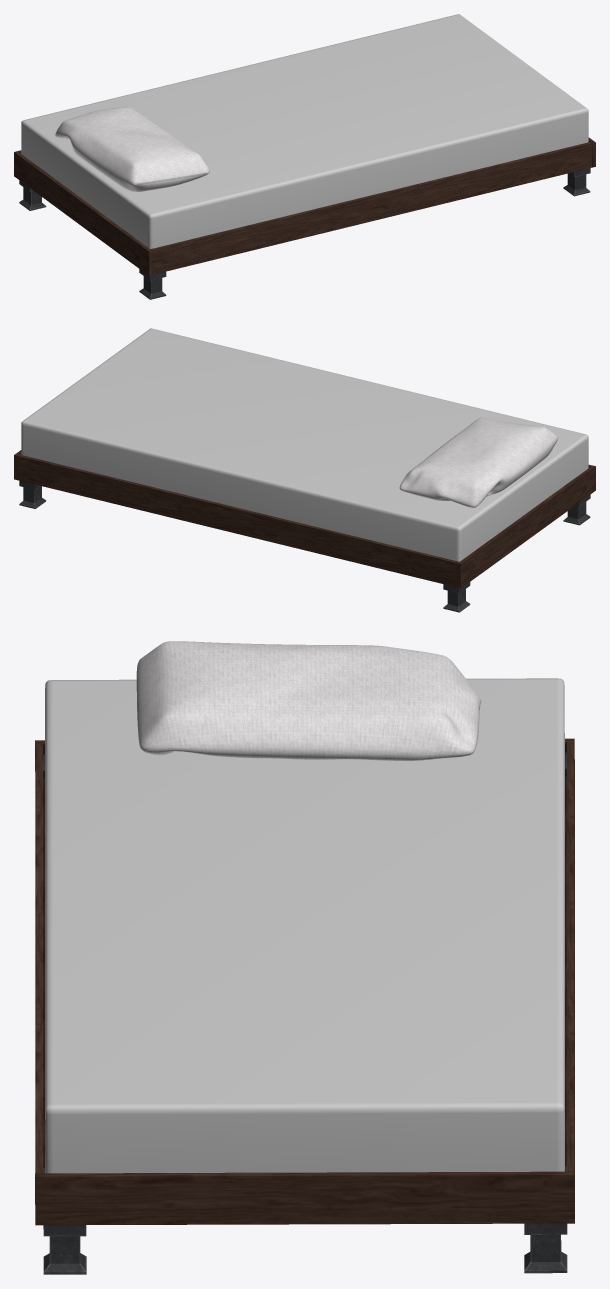
3 renders of one model, top to bottom at view 1: azimuth 30°, elevation 25°; view 2: azimuth 150°, elevation 25°; view 3: azimuth 270°, elevation 25°, orthographic. The views are drawn at different scales.
Parts seen in each view (by area): view 1: Mattress, Bed Frame, Pillow _Pillow _0; view 2: Mattress, Bed Frame, Pillow _Pillow _0; view 3: Mattress, Bed Frame, Pillow _Pillow _0.
Boxes of the visible parts, <box> form: Mattress: <box>21,14,588,249</box>; Bed Frame: <box>14,137,595,299</box>; Pillow _Pillow _0: <box>55,106,209,191</box>; Mattress: <box>21,328,588,561</box>; Bed Frame: <box>14,450,595,612</box>; Pillow _Pillow _0: <box>399,417,558,507</box>; Mattress: <box>45,678,564,1173</box>; Bed Frame: <box>35,738,574,1274</box>; Pillow _Pillow _0: <box>136,641,481,760</box>.
Size of the model in its own units: 1.88 by 0.4446 by 0.981.
